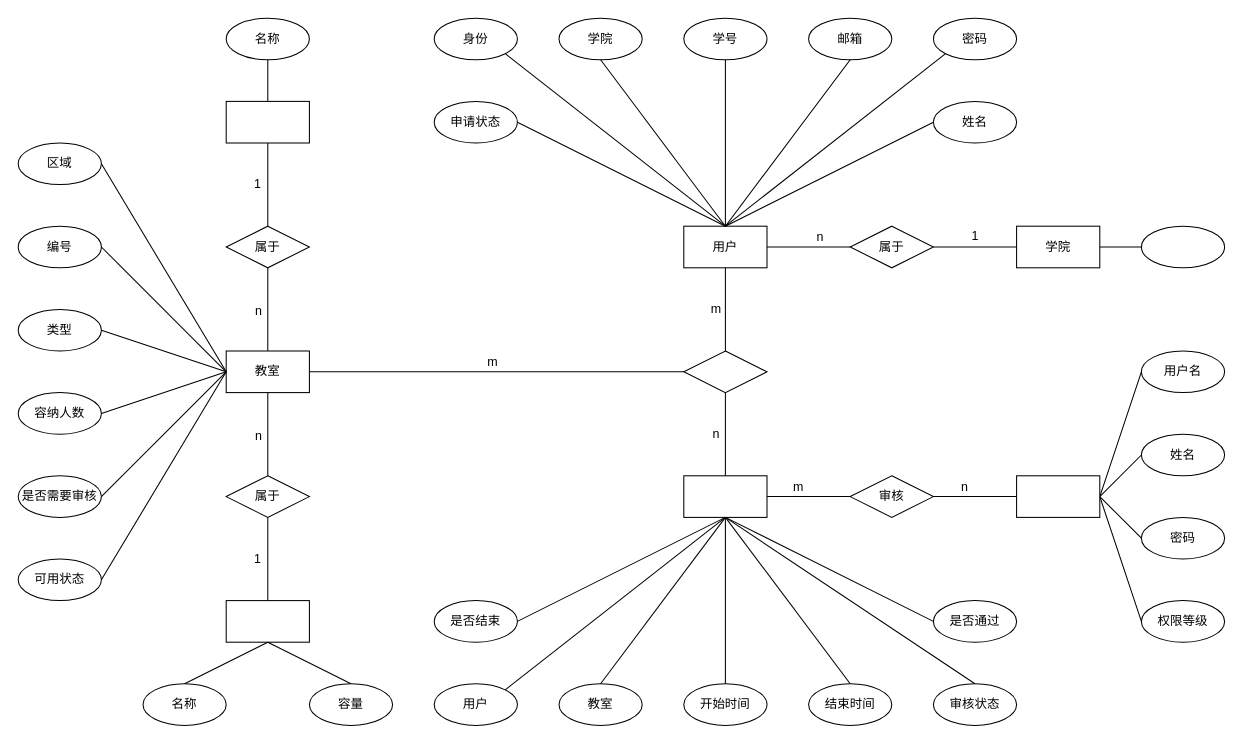
This 1243x744 diagram has some shape labels left out. The shapes that lost their labels are listed below. From the top down, each one's box as (x1, y1, x2, y2) in pixels, then its label:
(225, 100, 309, 143): 教学区域
(1140, 225, 1225, 268): 学院名称
(683, 350, 767, 393): 申请
(683, 475, 767, 517): 申请记录
(1016, 475, 1100, 517): 管理员
(225, 600, 309, 642): 教室类型
